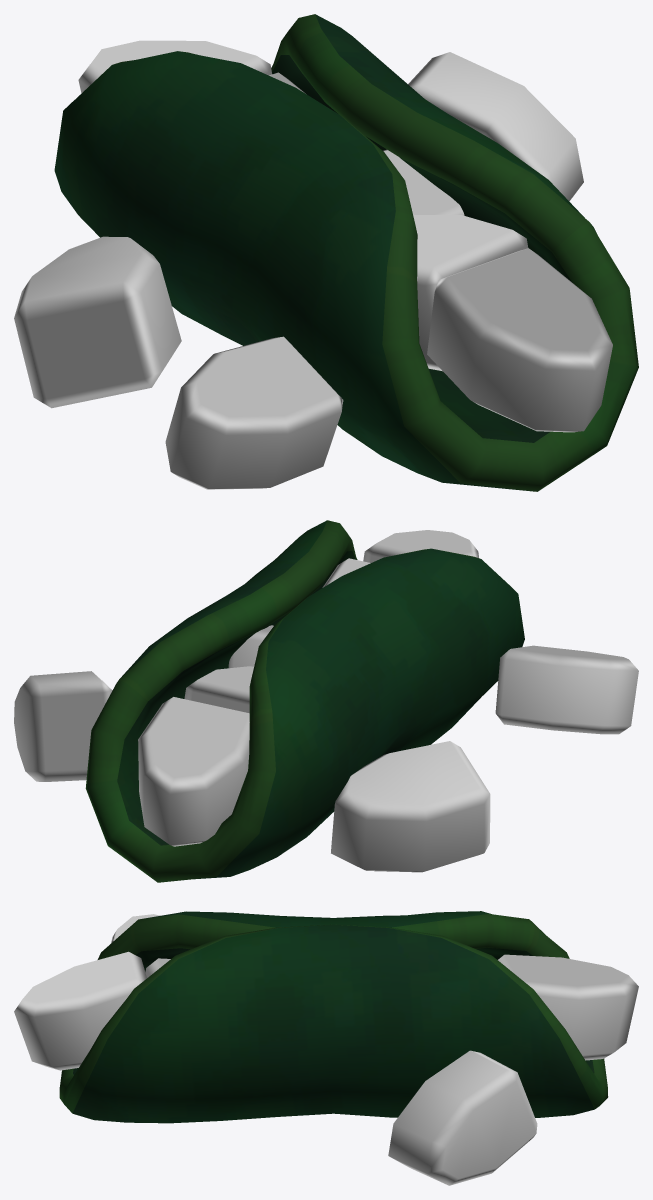
Rendered from Seaweed_Fish.fbx.
3 renders of one model, top to bottom at view 1: azimuth 30°, elevation 25°; view 2: azimuth 150°, elevation 25°; view 3: azimuth 270°, elevation 25°, orthographic. The views are drawn at different scales.
Parts seen in each view (by area): view 1: m_plated_seaweed_fish_01; view 2: m_plated_seaweed_fish_01; view 3: m_plated_seaweed_fish_01.
Part boxes in pixels (bbox=[...]): m_plated_seaweed_fish_01: bbox=[14, 14, 638, 491]; m_plated_seaweed_fish_01: bbox=[14, 520, 638, 882]; m_plated_seaweed_fish_01: bbox=[14, 911, 638, 1185].
Size of the model in its own units: 76.86 by 34.51 by 96.28.
